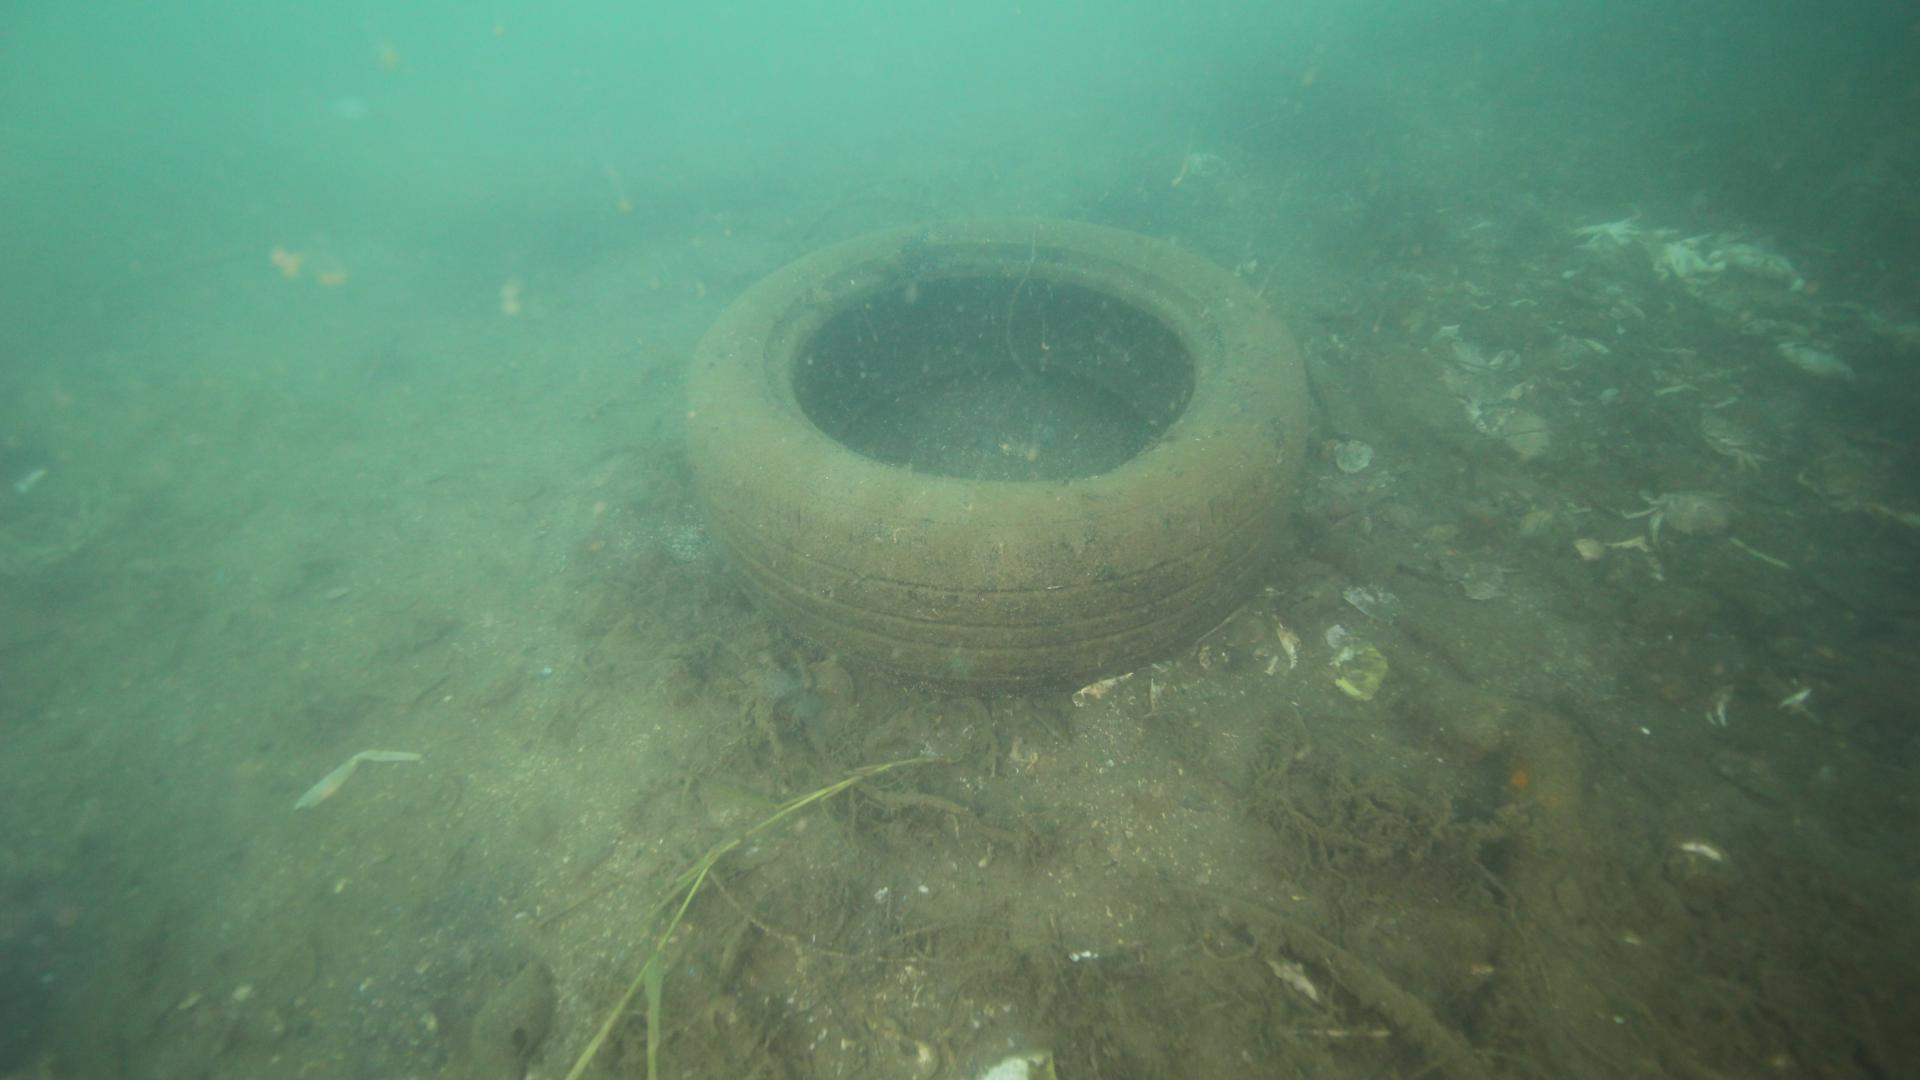tire: (684, 203, 1308, 680)
